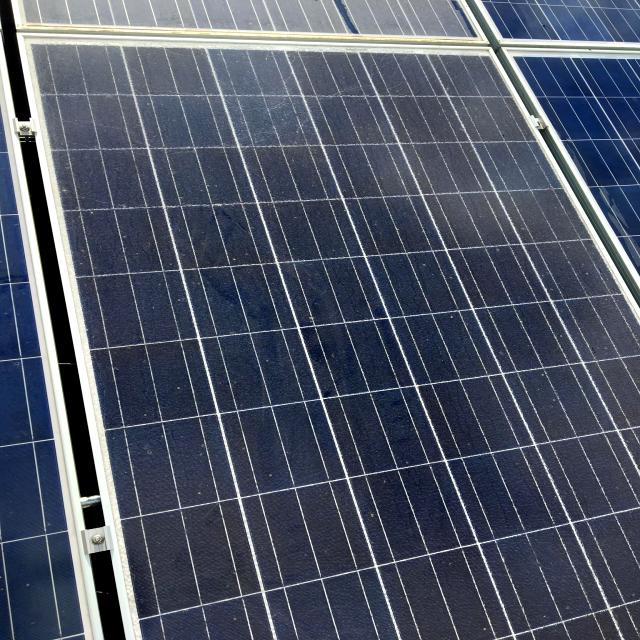dust: (284, 48, 504, 255), (388, 282, 590, 459), (44, 49, 245, 223), (177, 419, 382, 571), (120, 269, 309, 409), (470, 505, 630, 607)
